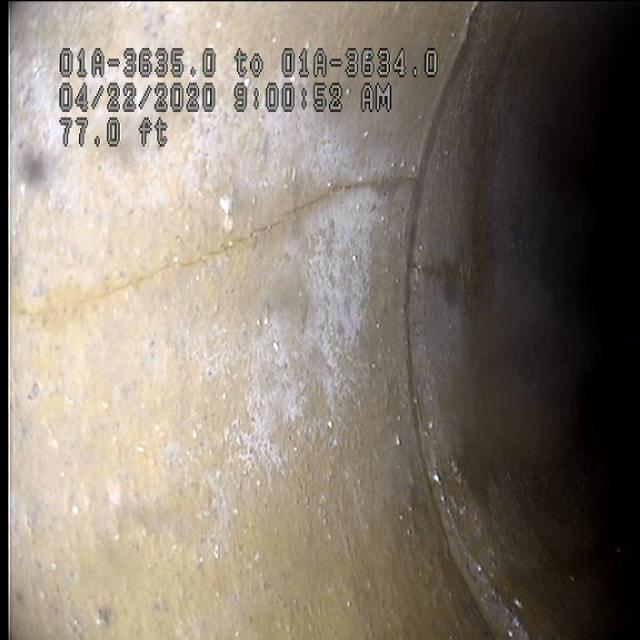Crack: (40, 174, 344, 354)
